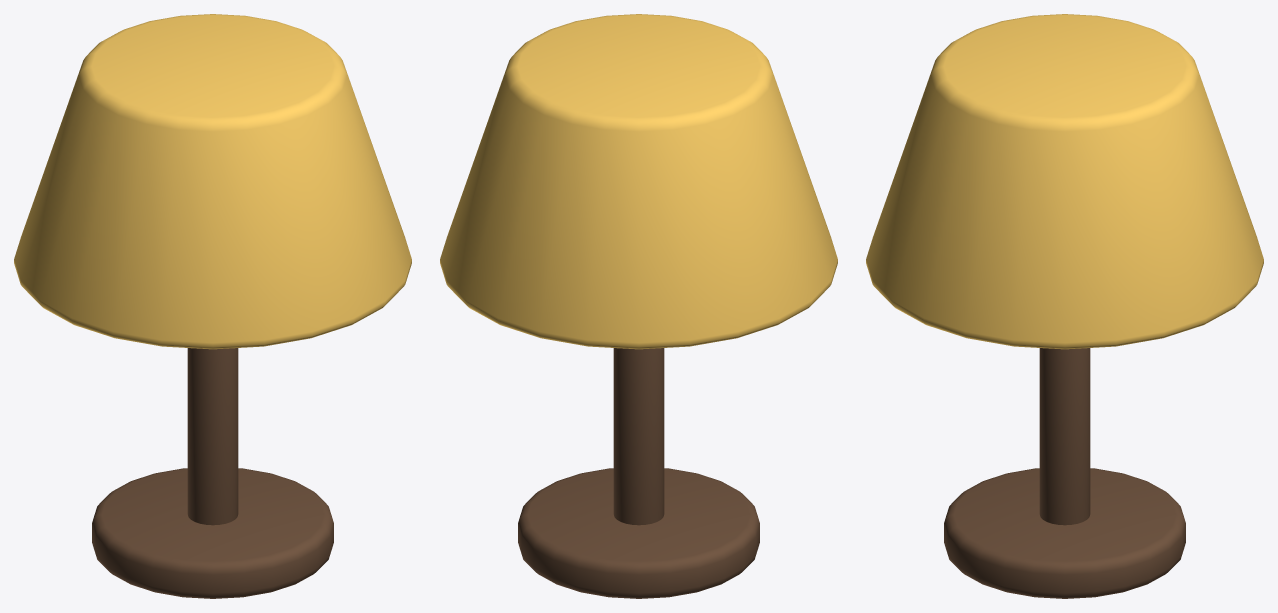
Rendered from lamp_table.glb.
3 renders of one model, left to right at view 1: azimuth 30°, elevation 25°; view 2: azimuth 150°, elevation 25°; view 3: azimuth 270°, elevation 25°, orthographic.
Visible parts, largest first — view 1: lamp_table; view 2: lamp_table; view 3: lamp_table.
Part boxes in pixels (box(x1,y1,x2,y2)): lamp_table: box(14, 14, 411, 598); lamp_table: box(440, 14, 837, 598); lamp_table: box(866, 14, 1263, 598).
Bounding box in the file's own units: 0.3943 × 0.53 × 0.3943.
